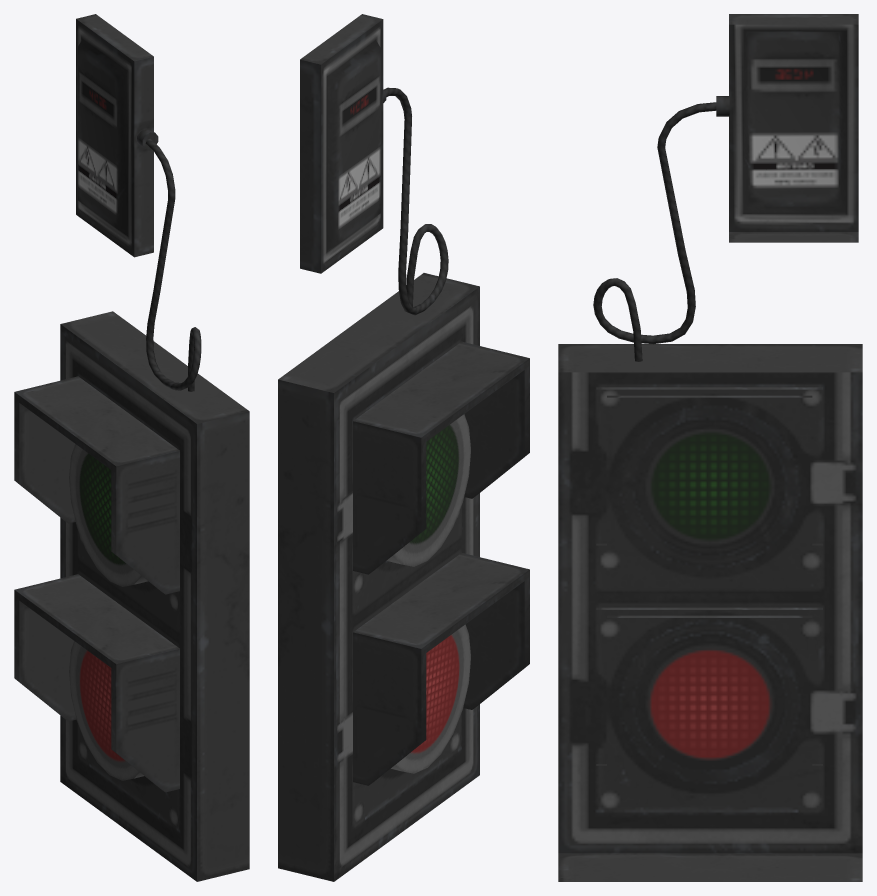
The model's file is HH_Traffic_Light_01.fbx.
The picture shows the model from 3 angles, left to right: view 1: azimuth 30°, elevation 25°; view 2: azimuth 150°, elevation 25°; view 3: azimuth 270°, elevation 25°; orthographic projection. The views are drawn at different scales.
Parts seen in each view (by area): view 1: HH_Traffic_Light_01_LOD0; view 2: HH_Traffic_Light_01_LOD0; view 3: HH_Traffic_Light_01_LOD0.
Boxes of the visible parts, box(x1,y1,x2,y2) form: HH_Traffic_Light_01_LOD0: box(14, 14, 249, 881); HH_Traffic_Light_01_LOD0: box(278, 14, 529, 881); HH_Traffic_Light_01_LOD0: box(558, 14, 862, 881).
Size of what is drawn, in the model's own units: 20.57 by 129 by 41.85.
